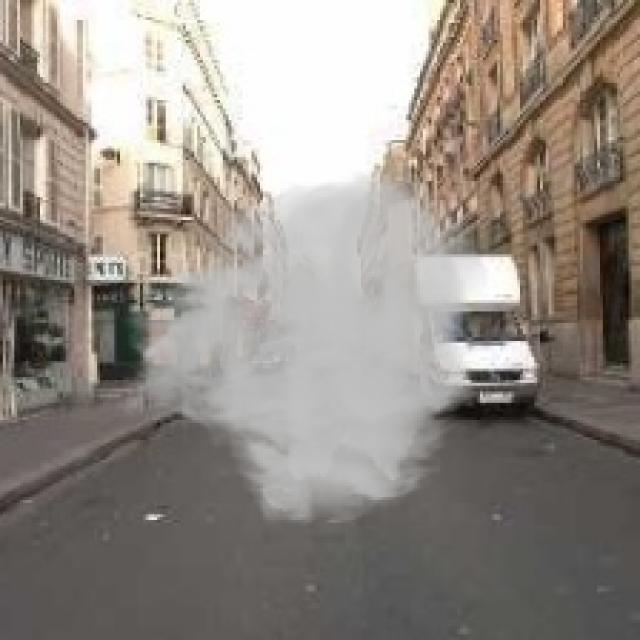smoke: (114, 166, 492, 528)
